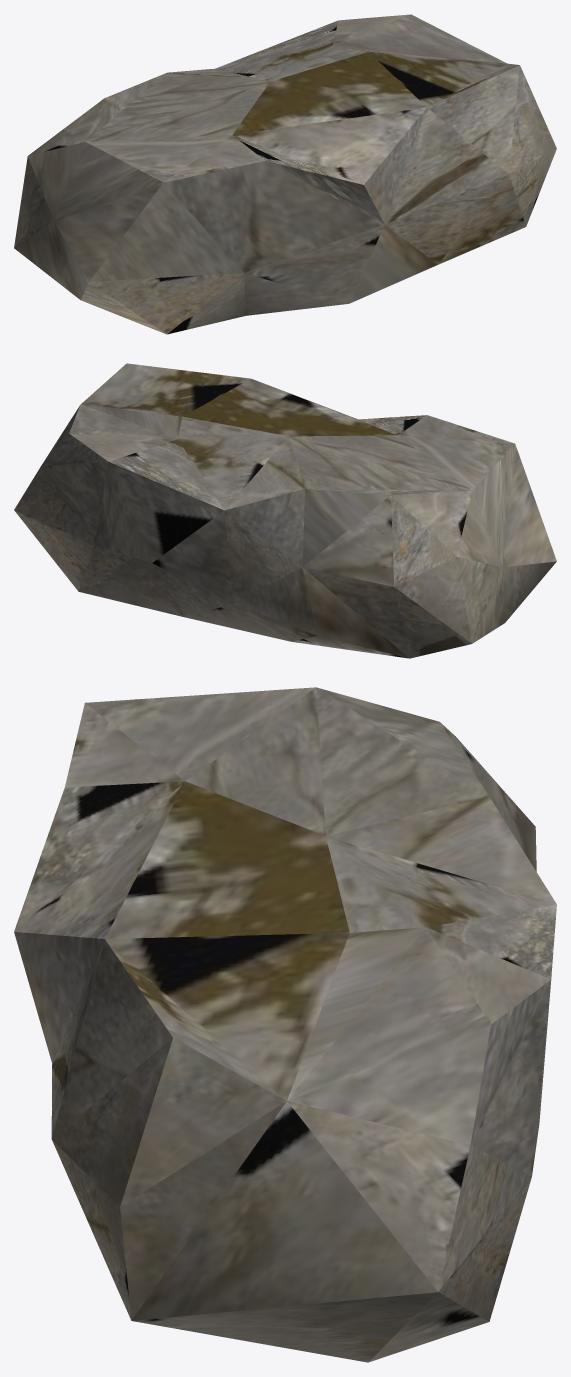
File: ea_rainstone_lod2.glb
3 renders of one model, top to bottom at view 1: azimuth 30°, elevation 25°; view 2: azimuth 150°, elevation 25°; view 3: azimuth 270°, elevation 25°, orthographic. The views are drawn at different scales.
Parts seen in each view (by area): view 1: output_unwrapped; view 2: output_unwrapped; view 3: output_unwrapped.
Boxes of the visible parts, x1=… form: output_unwrapped: x1=14, y1=14, x2=556, y2=334; output_unwrapped: x1=14, y1=363, x2=556, y2=658; output_unwrapped: x1=14, y1=687, x2=556, y2=1362.
Bounding box in the file's own units: 1.88 × 0.6655 × 0.9661.
1 material, 1 textured.
